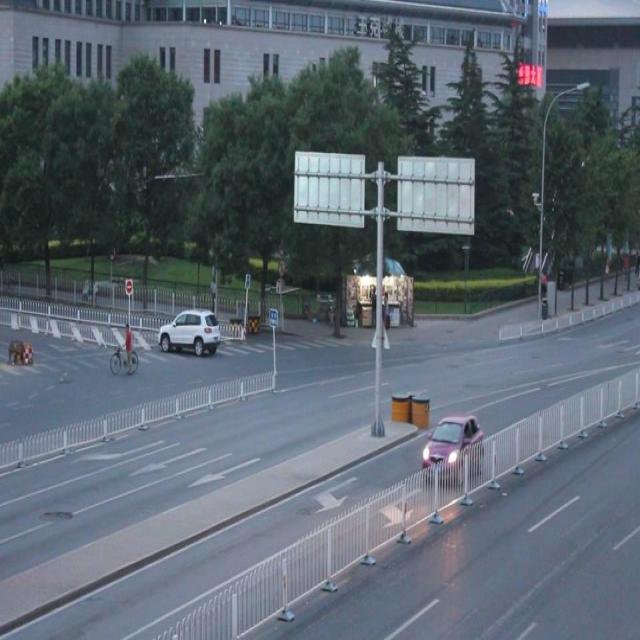car: (421, 411, 484, 483), (158, 304, 220, 362)
